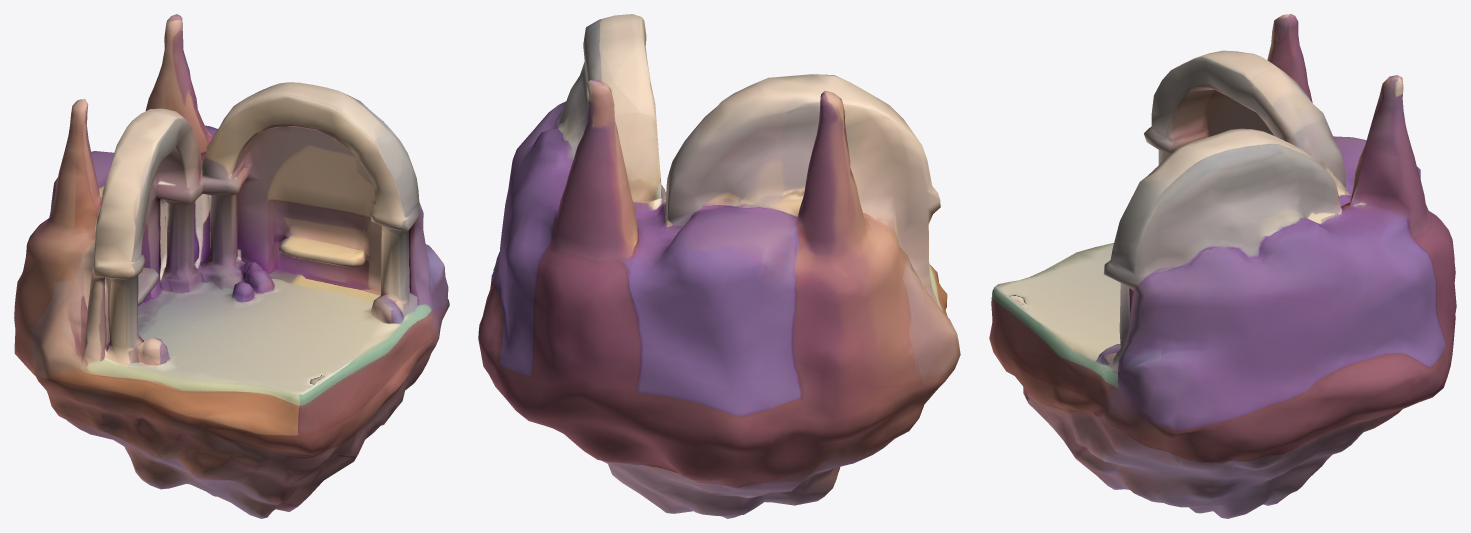
Rendered from Habitat_5.glb.
The picture shows the model from 3 angles, left to right: view 1: azimuth 30°, elevation 25°; view 2: azimuth 150°, elevation 25°; view 3: azimuth 270°, elevation 25°; orthographic projection. The views are drawn at different scales.
Bounding box in the file's own units: 1.86 × 1.91 × 1.82.
Materials: 1 (1 with a texture image).
